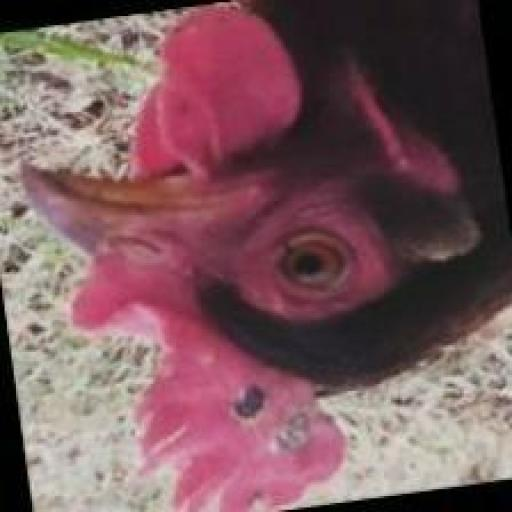disease: (181, 321, 340, 481)
